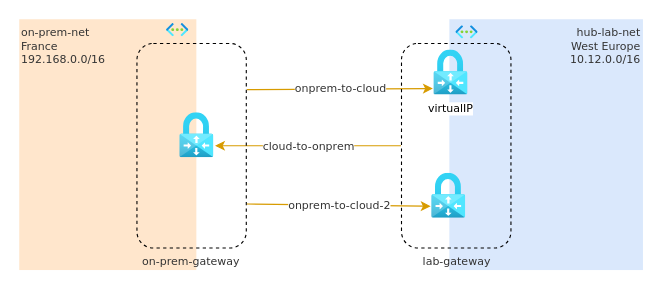
Some shapes in this 661 by 288 pixel diagram are drawn without their labels. Here are the shapes that lost their labels. From the top down, the centre of each, then its label:
At [196,134]: "onprem-IP".
At [448,195]: "virtualIP-2".
